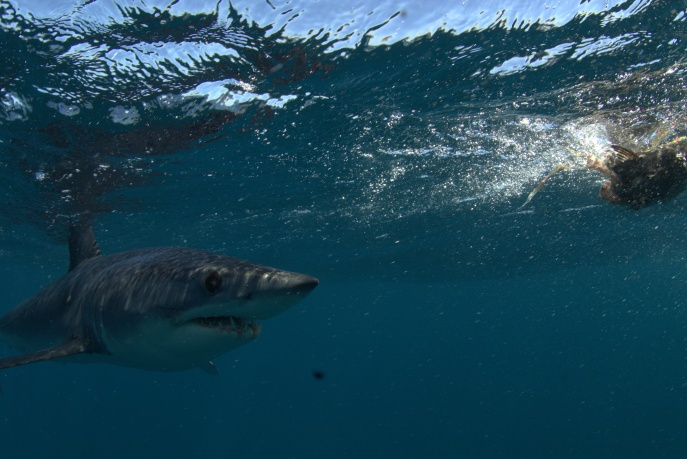Mako: (1, 210, 330, 379)
